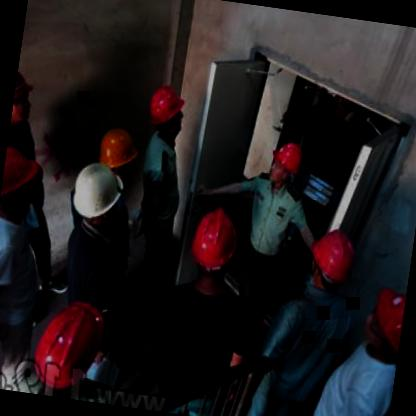helmet: (30, 294, 110, 393), (66, 159, 128, 227), (356, 282, 406, 364), (304, 226, 362, 296), (187, 202, 243, 272), (0, 144, 44, 212), (143, 82, 188, 141), (93, 125, 141, 180), (9, 64, 39, 130), (266, 138, 305, 186)
